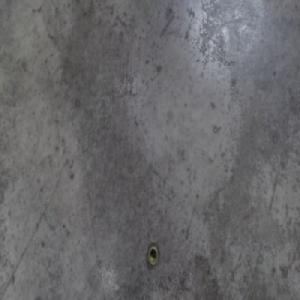Nut: (147, 242, 159, 268)
